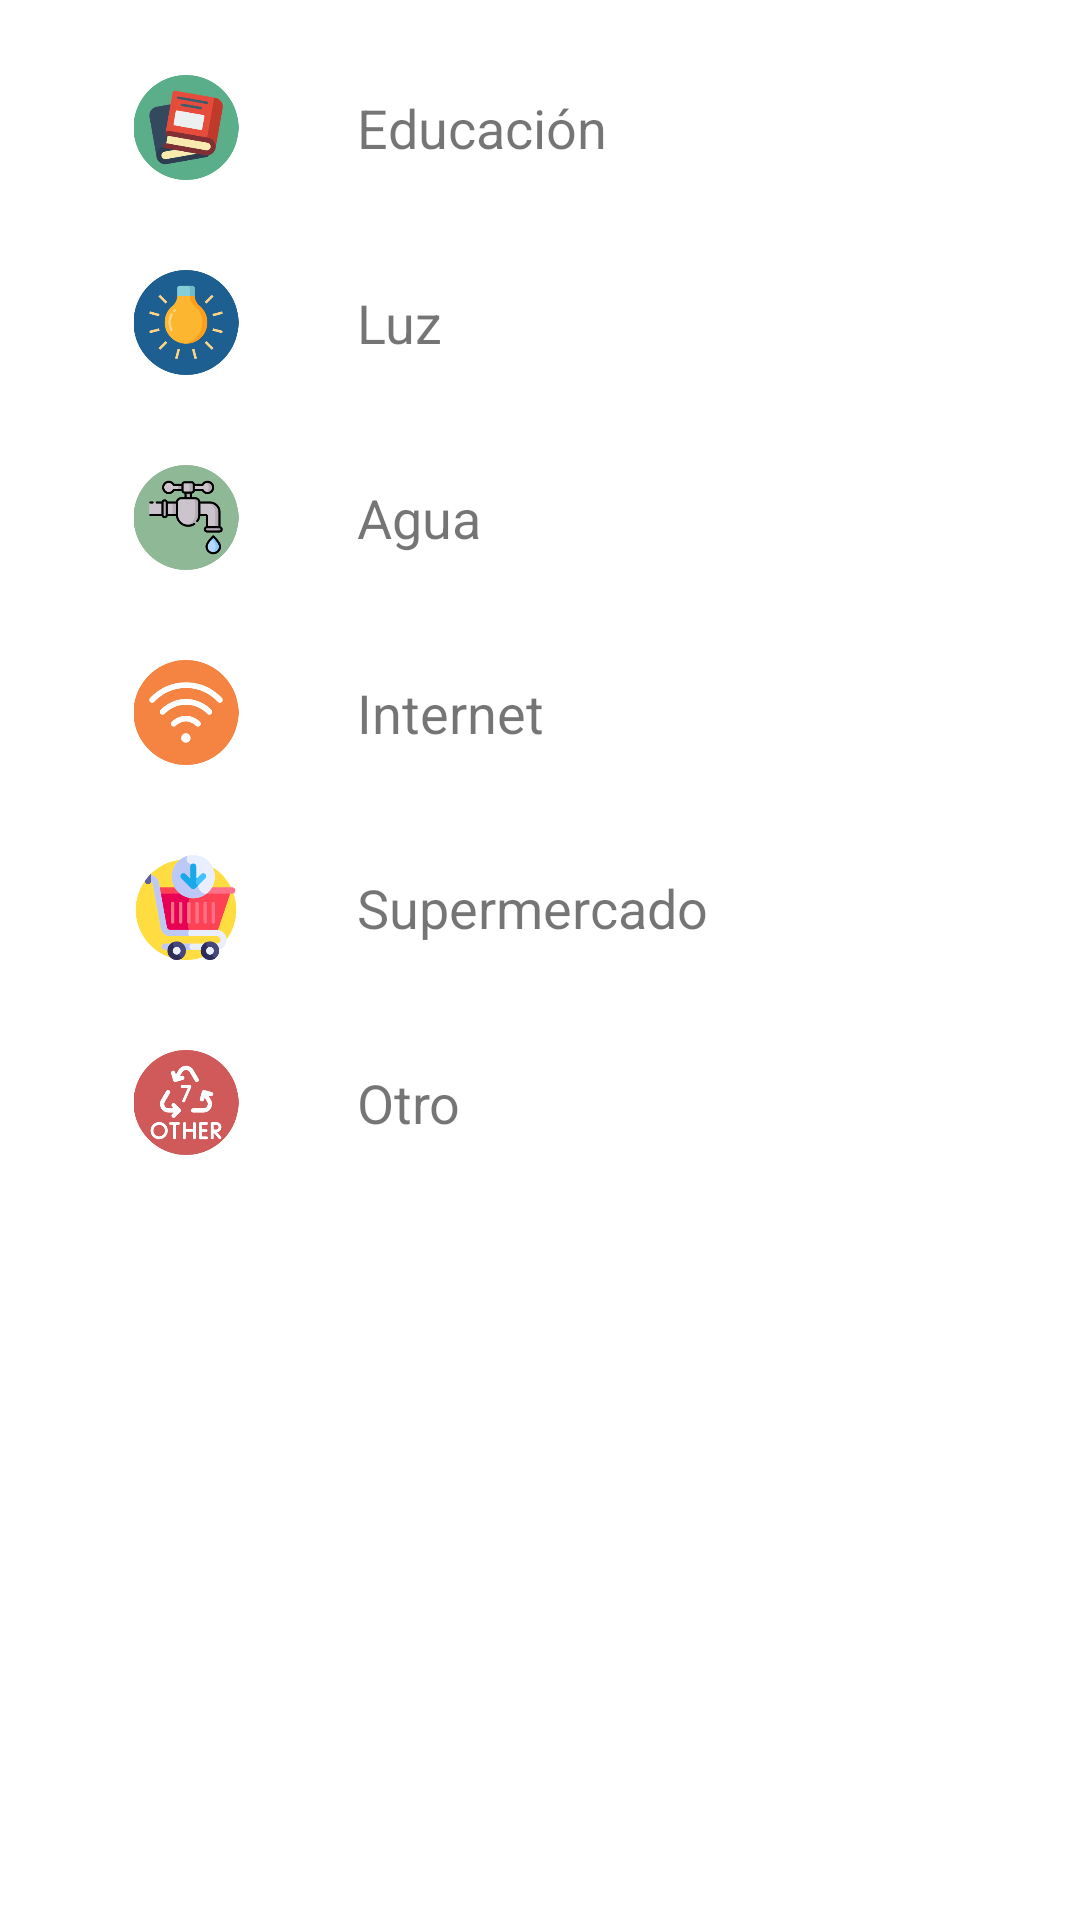

Icon click points for this 1080*1920 phone screenshot, format point (x, y):
educacion: point (186, 127)
wifi: point (186, 712)
